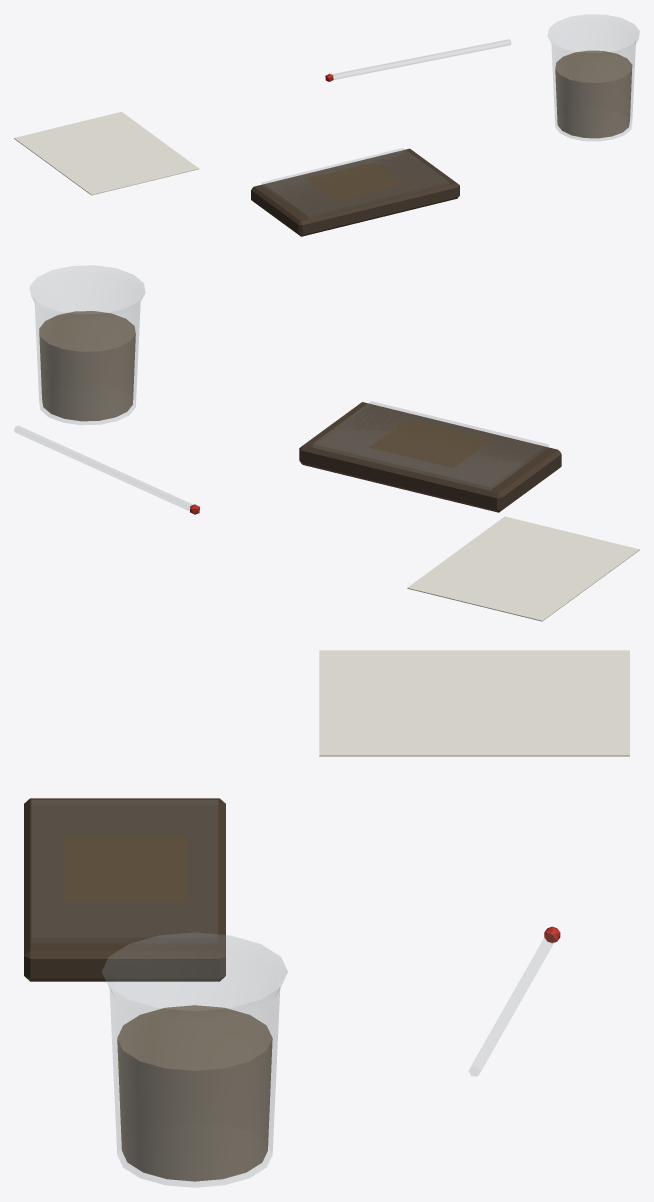
The model's file is room_darkroom__冲洗布置.gltf.
3 views of the same model, one above another, from view 1: azimuth 30°, elevation 25°; view 2: azimuth 150°, elevation 25°; view 3: azimuth 270°, elevation 25° (orthographic). The views are drawn at different scales.
Visible parts, largest first — view 1: 暗房·冲洗布置; view 2: 暗房·冲洗布置; view 3: 暗房·冲洗布置.
Boxes of the visible parts, x1,y1,x2,y2 form: 暗房·冲洗布置: (14,14,639,236); 暗房·冲洗布置: (14,265,639,621); 暗房·冲洗布置: (24,650,629,1187).
Bounding box in the file's own units: 0.76 × 0.13 × 0.39.
